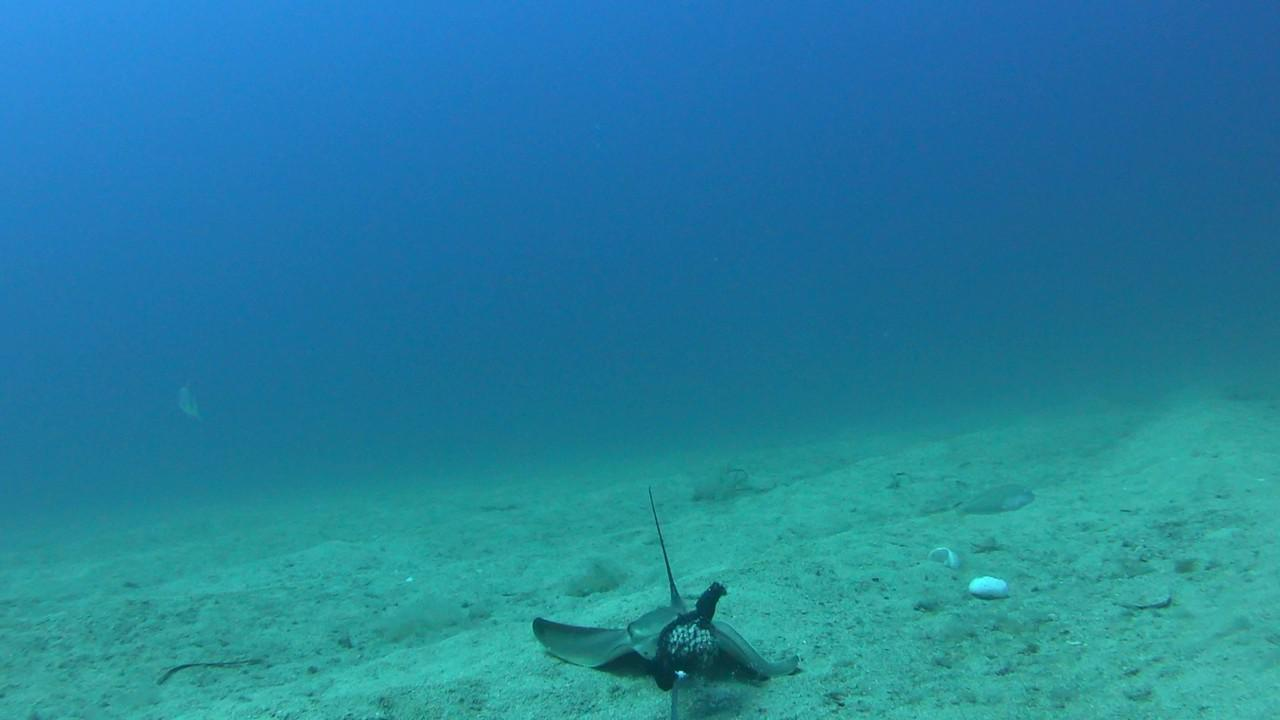balistes: (178, 380, 206, 418)
myliobatis: (534, 478, 807, 687)
raor: (950, 481, 1034, 520)
